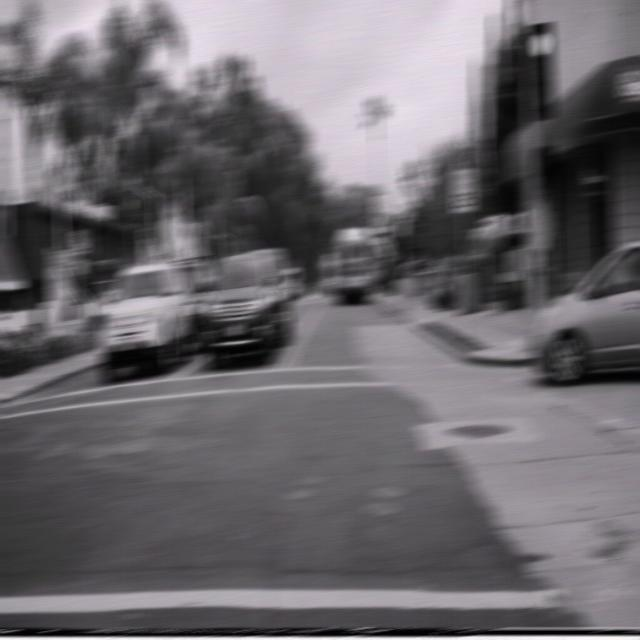speedLimit25: (449, 166, 475, 213)
